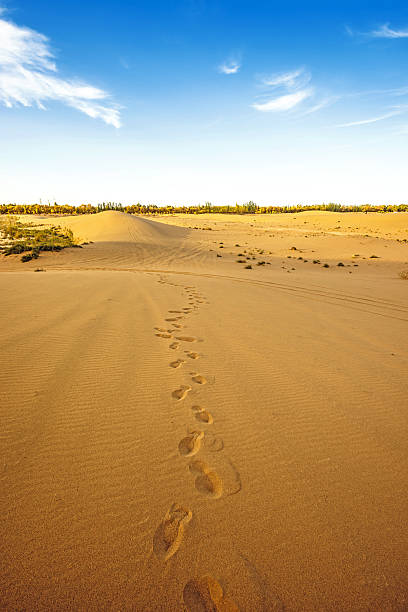human_footprint: (153, 503, 191, 560), (183, 575, 239, 611), (189, 460, 222, 498), (178, 431, 204, 457), (192, 405, 213, 424), (172, 385, 191, 400), (192, 373, 206, 384), (169, 359, 184, 368), (185, 351, 199, 359), (155, 332, 171, 338), (177, 336, 196, 341), (169, 341, 179, 349)
